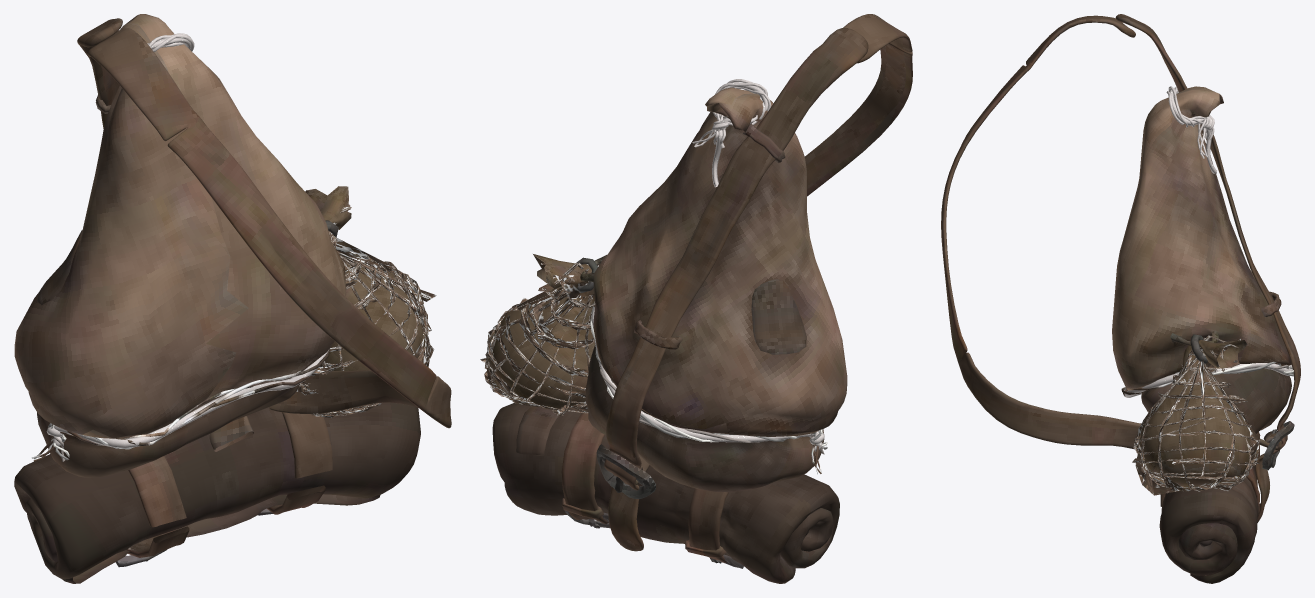
Rendered from natural-travel-pack-quiet.glb.
3 views of the same model, side by side, from view 1: azimuth 30°, elevation 25°; view 2: azimuth 150°, elevation 25°; view 3: azimuth 270°, elevation 25° (orthographic). The views are drawn at different scales.
Visible parts, largest first — view 1: natural-travel-pack-quiet runtime mesh; view 2: natural-travel-pack-quiet runtime mesh; view 3: natural-travel-pack-quiet runtime mesh.
Boxes of the visible parts, x1,y1,x2,y2 form: natural-travel-pack-quiet runtime mesh: (14,14,451,583); natural-travel-pack-quiet runtime mesh: (480,14,912,583); natural-travel-pack-quiet runtime mesh: (941,14,1300,583).
Size of the model in its own units: 0.3309 by 0.48 by 0.3386.
Materials: 2 (2 with a texture image).
